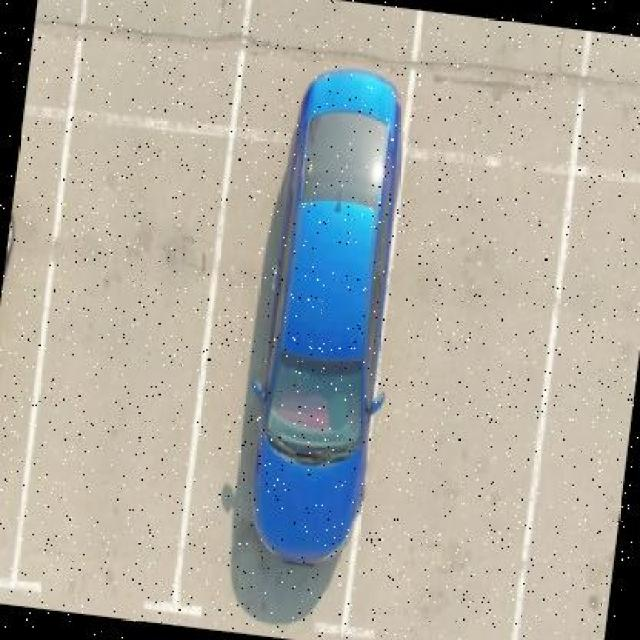Car: (232, 54, 432, 603)
Empty: (15, 121, 233, 599), (370, 162, 564, 638), (525, 182, 640, 640)
